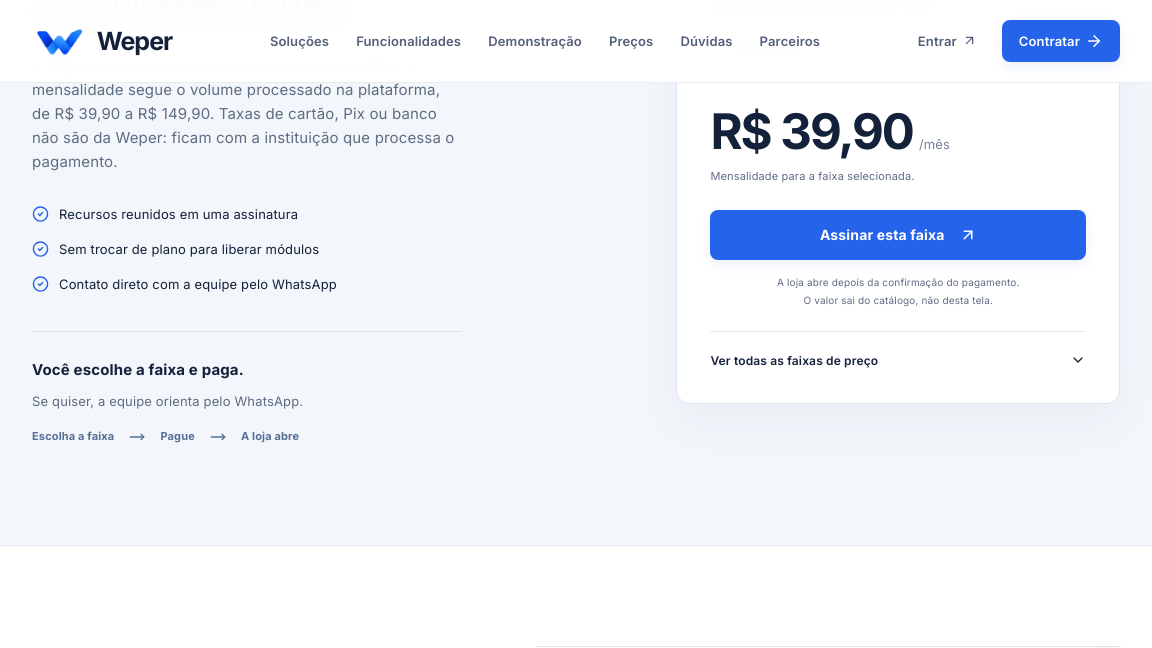
public pricing table shows the amount without the internal plan code
(page scrolled)
Click the heading "Ver todas as faixas de preço": (794, 360) x1=710 y1=351 x2=1086 y2=370
(page scrolled)
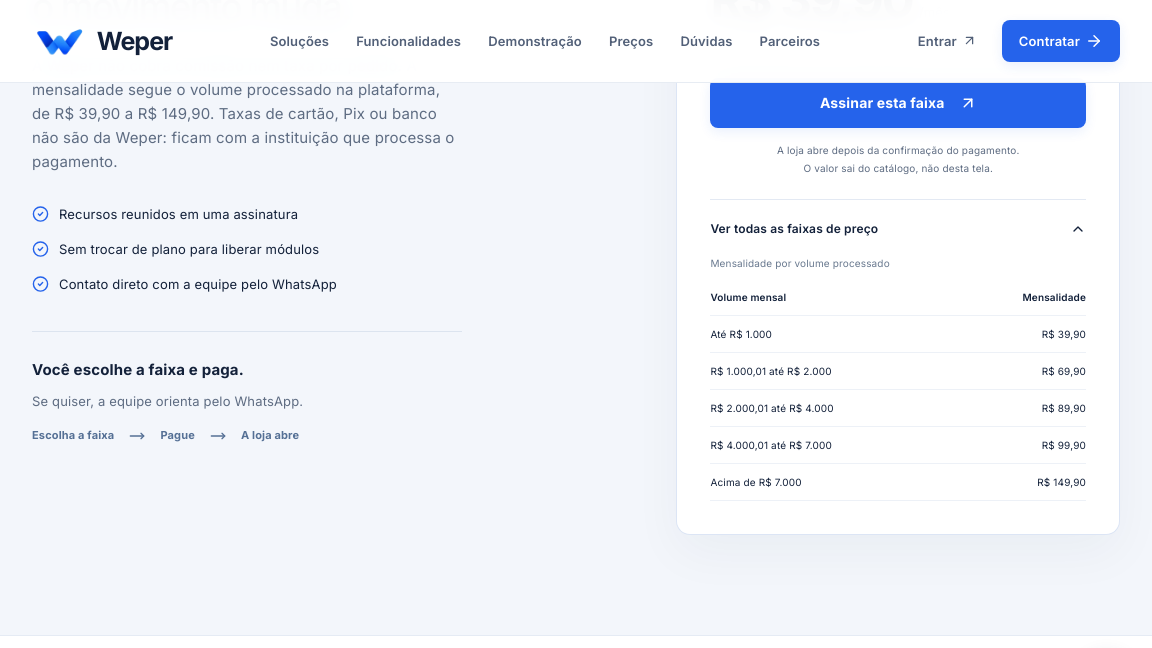
Check: the table "Mensalidade por volume processado" shows "Até R$ 1.000", box x1=710 y1=328 x2=772 y2=340
Check: the table "Mensalidade por volume processado" shows "R$ 39,90", box x1=1042 y1=328 x2=1086 y2=340
Check: the table "Mensalidade por volume processado" shows "Acima de R$ 7.000", box x1=710 y1=476 x2=802 y2=488
